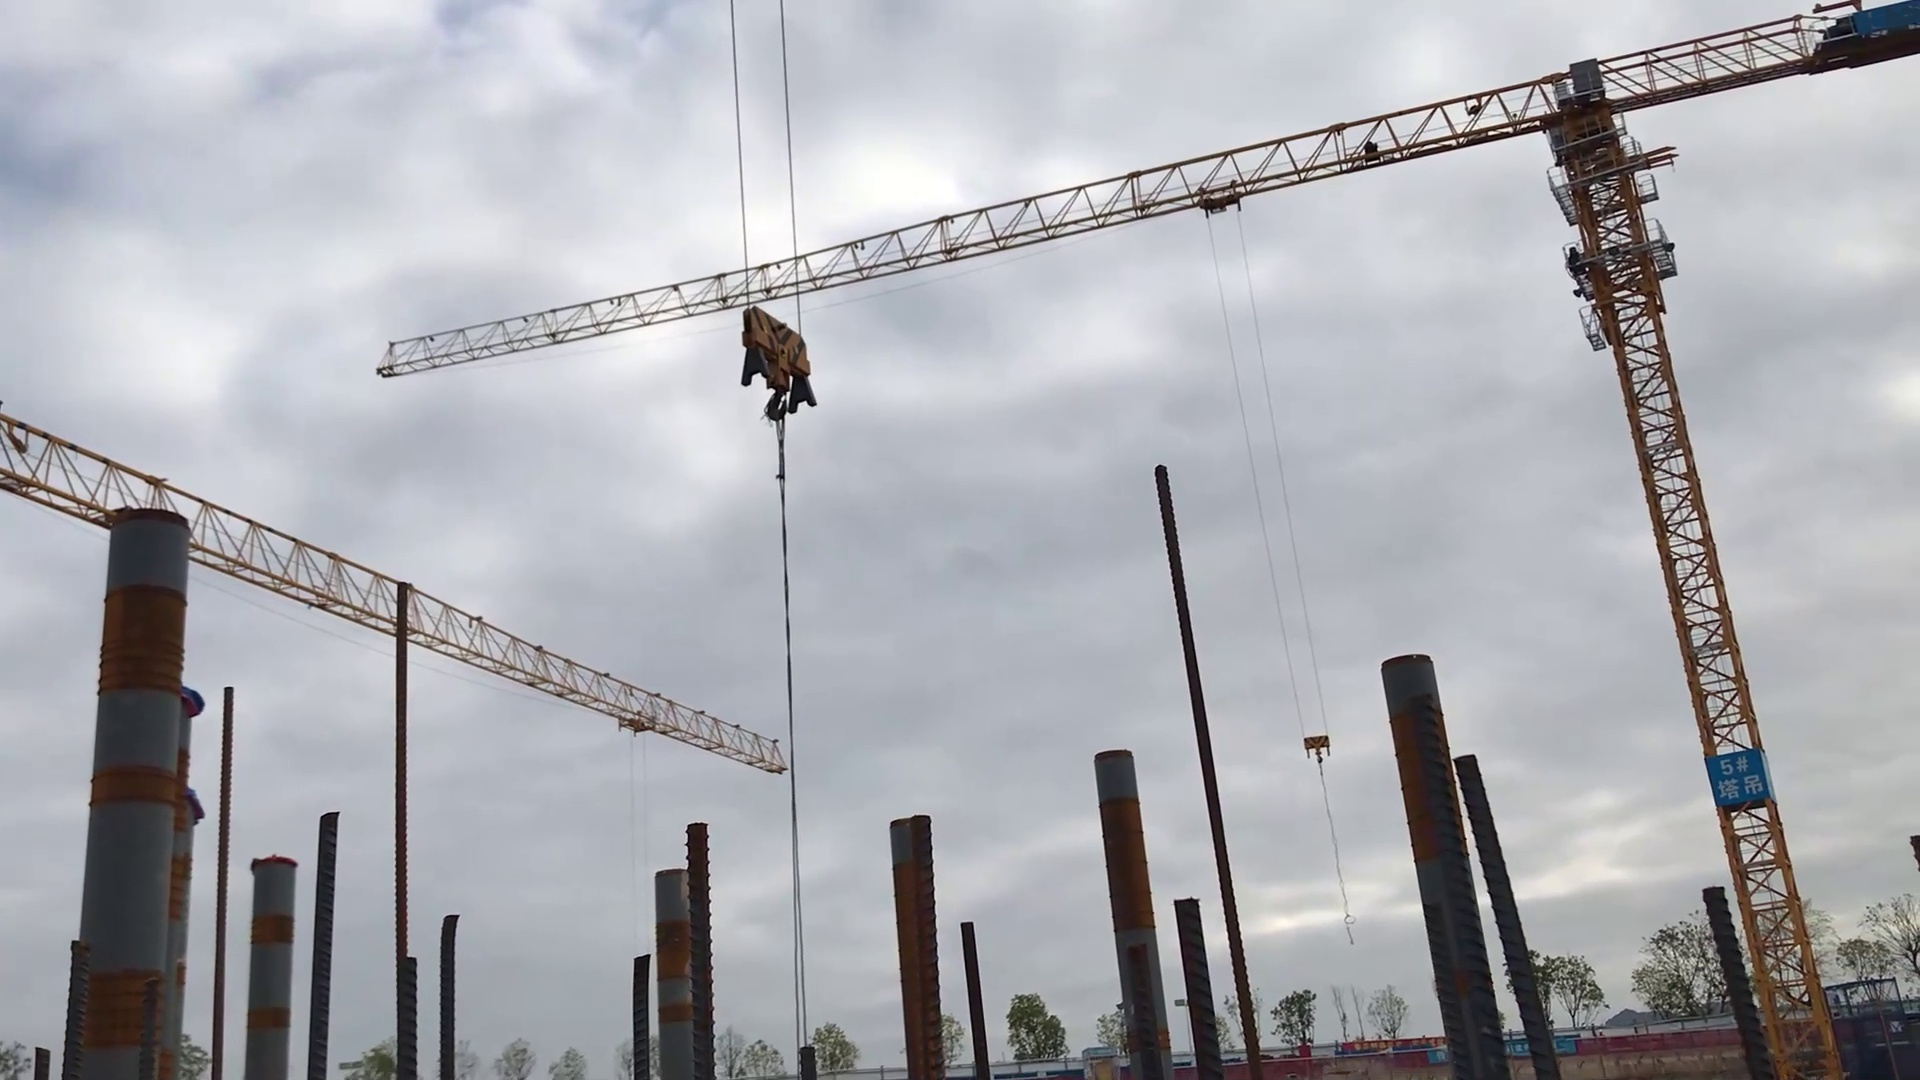fence: (1582, 1017, 1730, 1080)
hook: (717, 305, 828, 436), (1302, 735, 1337, 767)
slogan: (1700, 749, 1778, 808)
